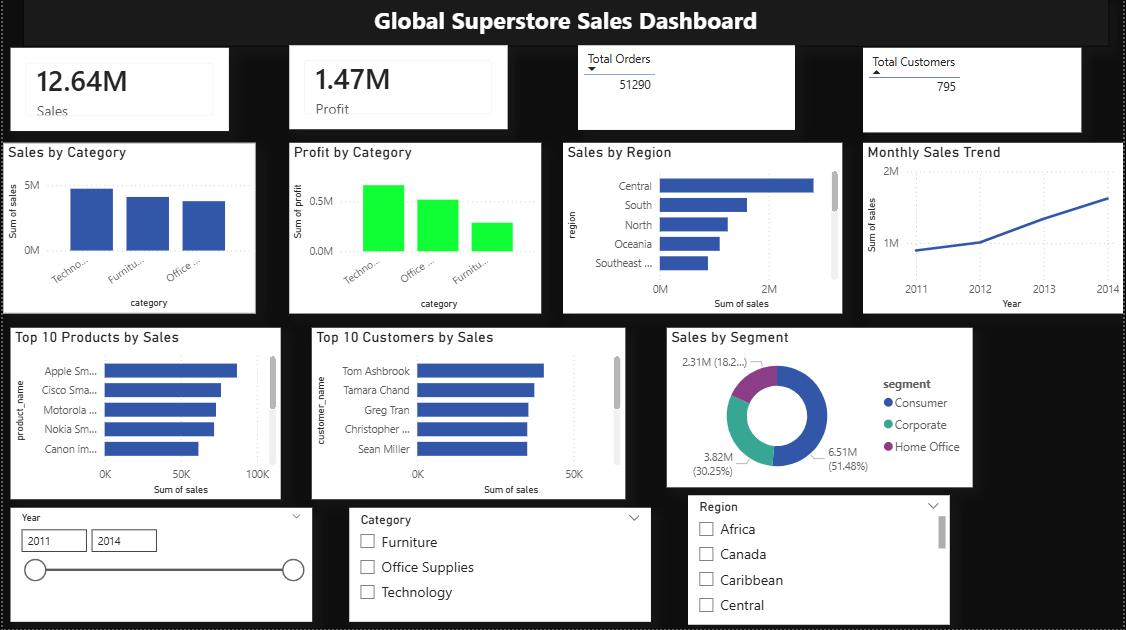

Layout of this report page (visuals, bound fields, positions):
{"tool":"powerbi","page":{"name":"Page 1","canvas":[1280,720],"ordinal":0},"visuals":[{"type":"textbox","box":[23,0,1241.4,54],"z":0},{"type":"cardVisual","fields":{"Data":["Sum(Sales_Data.sales)"]},"box":[8,55.2,249.4,95.4],"z":1000},{"type":"cardVisual","fields":{"Data":["Sum(Sales_Data.profit)"]},"box":[326.6,53.5,249.7,96.1],"z":2000},{"type":"tableEx","fields":{"Values":["Sales_Data.order_id"]},"box":[657.5,52.9,248.3,96.6],"z":3000},{"type":"tableEx","fields":{"Values":["Sales_Data.customer_name"]},"box":[982.8,55.2,249.4,96.6],"z":4000},{"type":"clusteredColumnChart","title":"Sales by Category","fields":{"Category":["Sales_Data.category"],"Y":["Sum(Sales_Data.sales)"]},"box":[0,164.4,288.5,195.4],"z":5000},{"type":"clusteredColumnChart","title":"Profit by Category","fields":{"Category":["Sales_Data.category"],"Y":["Sum(Sales_Data.profit)"]},"box":[326.6,164.7,288,195],"z":6000},{"type":"clusteredBarChart","title":"Sales by Region","fields":{"Y":["Sum(Sales_Data.sales)"],"Category":["Sales_Data.region"]},"box":[640.2,164.4,319.5,195.4],"z":7000},{"type":"lineChart","title":"Monthly Sales Trend","fields":{"Category":["Sales_Data.order_date.Variation.Date Hierarchy.Year","Sales_Data.order_date.Variation.Date Hierarchy.Quarter","Sales_Data.order_date.Variation.Date Hierarchy.Month","Sales_Data.order_date.Variation.Date Hierarchy.Day"],"Y":["Sum(Sales_Data.sales)"]},"box":[982.8,164.4,297.7,195.4],"z":8000},{"type":"clusteredBarChart","title":"Top 10 Products by Sales","fields":{"Category":["Sales_Data.product_name"],"Y":["Sum(Sales_Data.sales)"]},"box":[8.2,376,308.7,196.2],"z":9000},{"type":"clusteredBarChart","title":"Top 10 Customers by Sales","fields":{"Category":["Sales_Data.customer_name"],"Y":["Sum(Sales_Data.sales)"]},"box":[352.7,376,358.1,196.2],"z":10000},{"type":"donutChart","title":"Sales by Segment","fields":{"Category":["Sales_Data.segment"],"Y":["Sum(Sales_Data.sales)"]},"box":[758.6,375.9,349.4,182.8],"z":11000},{"type":"slicer","fields":{"Values":["Sales_Data.year"]},"box":[8.2,581.8,344.4,130.4],"z":12000},{"type":"slicer","fields":{"Values":["Sales_Data.category"]},"box":[395.2,581.8,344.4,130.4],"z":13000},{"type":"slicer","fields":{"Values":["Sales_Data.region"]},"box":[783.5,566.7,299.1,148.2],"z":14000}]}

Visuals, with their boxes in screenshot pixels (x1, y1, x2, y2), scaled from the page's 1280x720 canvas onto the 1126x630 screenshot:
textbox: BBox(20, 0, 1112, 47)
cardVisual - Sum(Sales_Data.sales): BBox(7, 48, 226, 132)
cardVisual - Sum(Sales_Data.profit): BBox(287, 47, 507, 131)
tableEx - Sales_Data.order_id: BBox(578, 46, 797, 131)
tableEx - Sales_Data.customer_name: BBox(865, 48, 1084, 133)
"Sales by Category" clusteredColumnChart: BBox(0, 144, 254, 315)
"Profit by Category" clusteredColumnChart: BBox(287, 144, 541, 315)
"Sales by Region" clusteredBarChart: BBox(563, 144, 844, 315)
"Monthly Sales Trend" lineChart: BBox(865, 144, 1125, 315)
"Top 10 Products by Sales" clusteredBarChart: BBox(7, 329, 279, 501)
"Top 10 Customers by Sales" clusteredBarChart: BBox(310, 329, 625, 501)
"Sales by Segment" donutChart: BBox(667, 329, 975, 489)
slicer - Sales_Data.year: BBox(7, 509, 310, 623)
slicer - Sales_Data.category: BBox(348, 509, 651, 623)
slicer - Sales_Data.region: BBox(689, 496, 952, 626)
